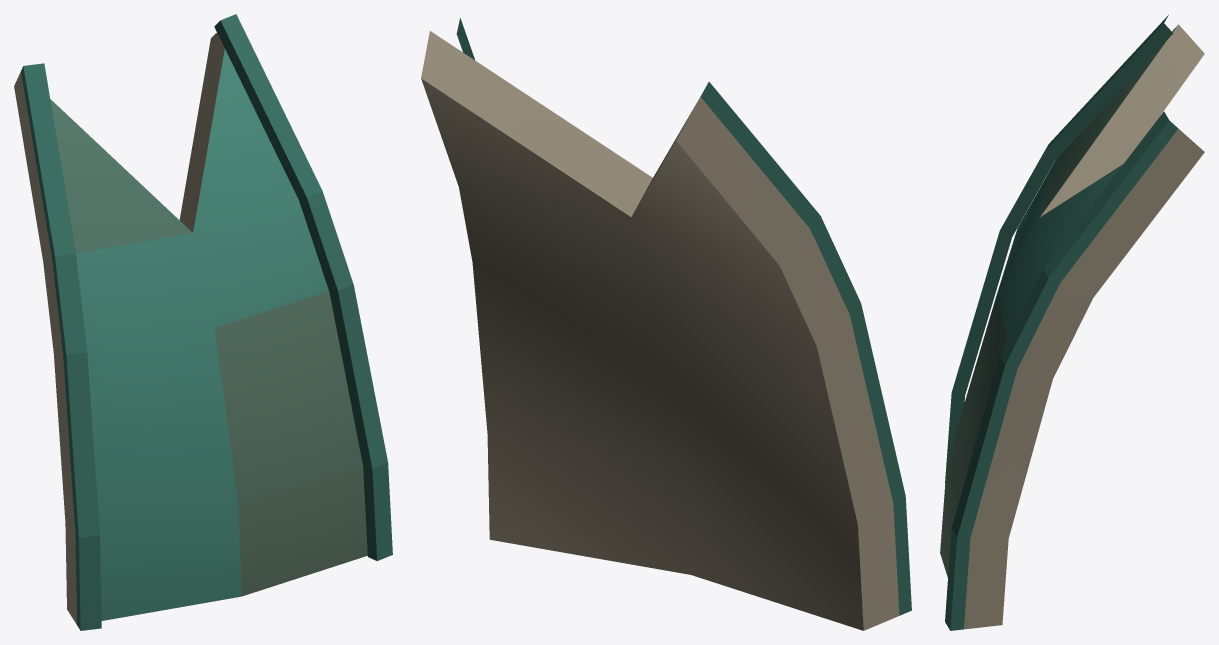
File: dome.panel_12_broken.copper.glb
The picture shows the model from 3 angles, left to right: view 1: azimuth 30°, elevation 25°; view 2: azimuth 150°, elevation 25°; view 3: azimuth 270°, elevation 25°; orthographic projection. The views are drawn at different scales.
Visible parts, largest first — view 1: dome_panel_12_broken_copper; view 2: dome_panel_12_broken_copper; view 3: dome_panel_12_broken_copper.
Part boxes in pixels (x1,y1,x2,y2): dome_panel_12_broken_copper: (14, 14, 392, 630); dome_panel_12_broken_copper: (421, 18, 911, 630); dome_panel_12_broken_copper: (940, 15, 1204, 630).
Size of what is drawn, in the model's own units: 1.85 by 2.68 by 1.33.
